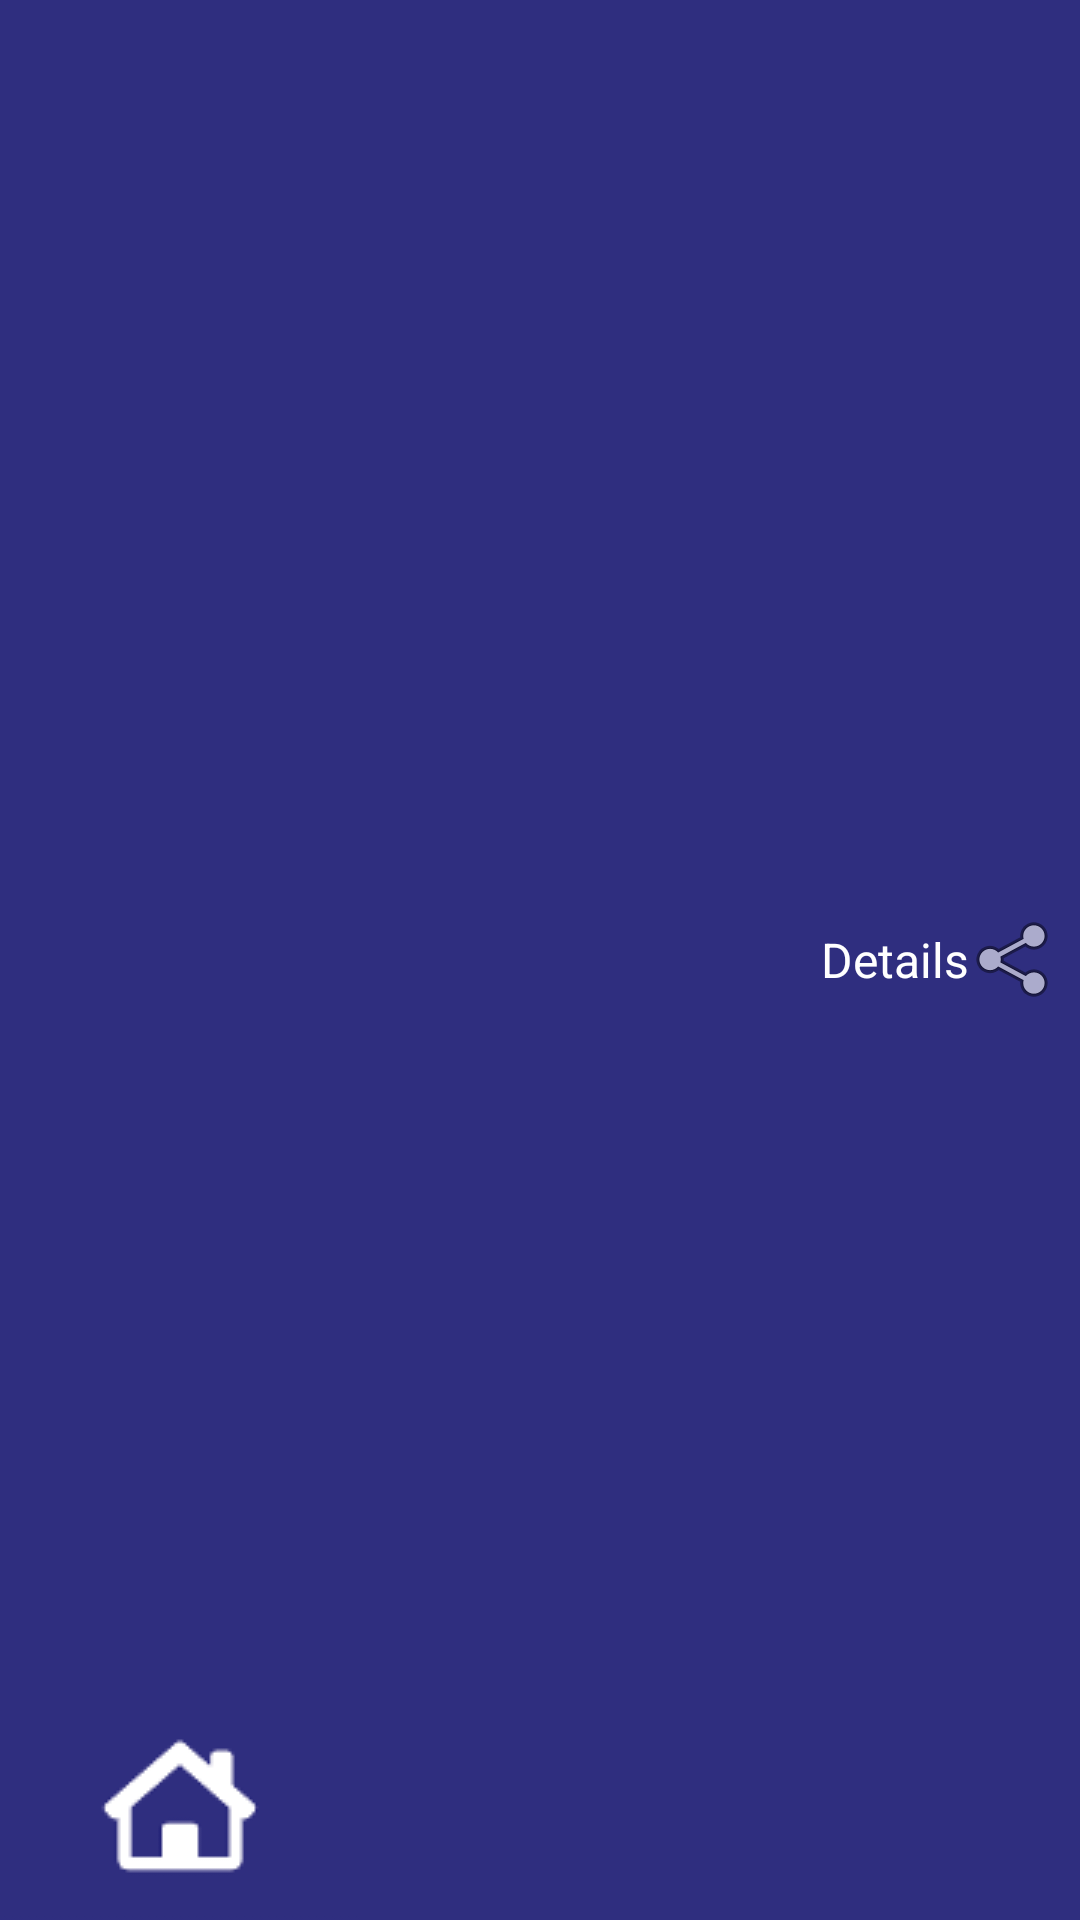

Screen size 1080×1920. Icon name, then its center in pixels as (x,y):
home: (179,1805)
share: (1012,959)
